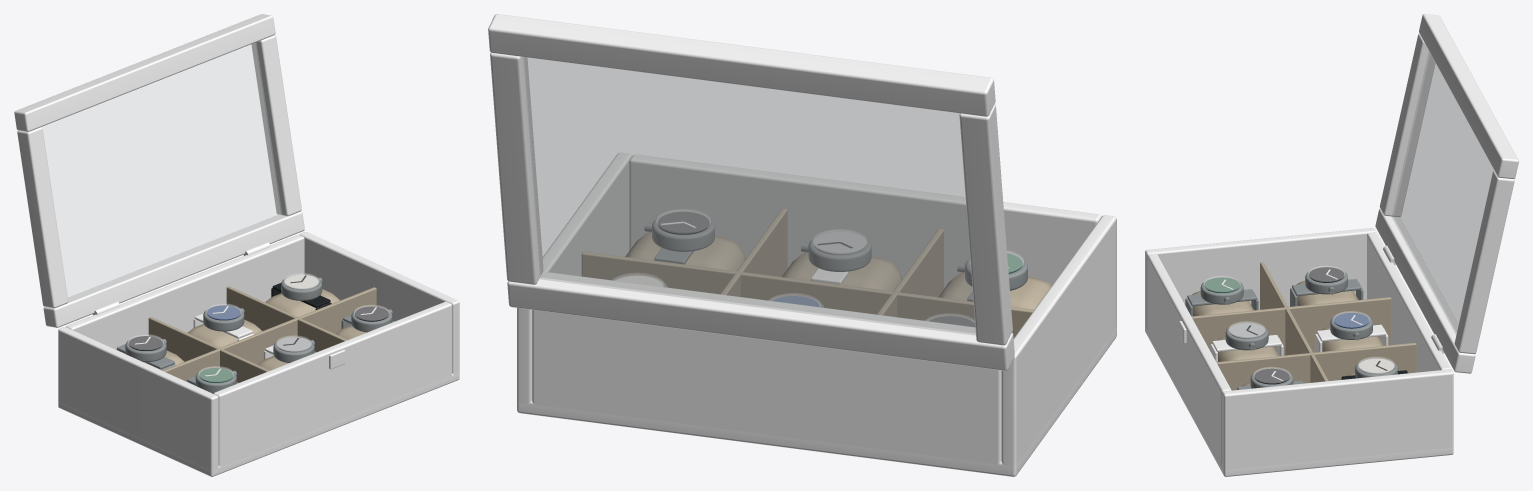
Rendered from watches-99b73f5d.glb.
3 views of the same model, side by side, from view 1: azimuth 30°, elevation 25°; view 2: azimuth 150°, elevation 25°; view 3: azimuth 270°, elevation 25° (orthographic). The views are drawn at different scales.
Visible parts, largest first — view 1: Inspect · Watch box · lid glass, Inspect · Watch box · walnut side, Inspect · Watch box · walnut end, Inspect · Watch box · walnut side.001, Inspect · Watch box · lid front rail, Inspect · Watch box · lid back rail, Inspect · Watch box · walnut end.001, Inspect · Watch box · lid side rail, Inspect · Watch box · lid side rail.001, Inspect · Watch box · compartment divider.002, Inspect · Watch box · walnut floor, Inspect · Watch box · compartment divider.001 (+12 smaller); view 2: Inspect · Watch box · lid glass, Inspect · Watch box · walnut side.001, Inspect · Watch box · walnut side, Inspect · Watch box · lid front rail, Inspect · Watch box · lid back rail, Inspect · Watch box · walnut end, Inspect · Watch box · compartment divider.002, Inspect · Watch box · lid side rail, Inspect · Watch box · lid side rail.001, Inspect · Watch box · walnut end.001, Inspect · Watch box · walnut floor, Inspect · Watch box · compartment divider.001 (+10 smaller); view 3: Inspect · Watch box · walnut end.001, Inspect · Watch box · lid glass, Inspect · Watch box · walnut end, Inspect · Watch box · walnut side, Inspect · Watch box · lid front rail, Inspect · Watch box · compartment divider, Inspect · Watch box · lid back rail, Inspect · Watch box · lid side rail.001, Inspect · Watch box · walnut side.001, Inspect · Watch box · lid side rail, Inspect · Watch box · compartment divider.001, Inspect · Watch box · walnut floor (+21 smaller).
Part boxes in pixels (bbox=[...]): Inspect · Watch box · lid glass: bbox=[41, 43, 282, 299]; Inspect · Watch box · walnut side: bbox=[213, 301, 451, 470]; Inspect · Watch box · walnut end: bbox=[58, 327, 218, 476]; Inspect · Watch box · walnut side.001: bbox=[66, 235, 304, 349]; Inspect · Watch box · lid front rail: bbox=[14, 14, 275, 131]; Inspect · Watch box · lid back rail: bbox=[43, 211, 304, 327]; Inspect · Watch box · walnut end.001: bbox=[299, 232, 459, 381]; Inspect · Watch box · lid side rail: bbox=[17, 127, 68, 308]; Inspect · Watch box · lid side rail.001: bbox=[251, 35, 301, 216]; Inspect · Watch box · compartment divider.002: bbox=[162, 287, 376, 381]; Inspect · Watch box · walnut floor: bbox=[58, 373, 459, 476]; Inspect · Watch box · compartment divider.001: bbox=[226, 286, 347, 352]; Inspect · Watch box · lid glass: bbox=[523, 57, 975, 335]; Inspect · Watch box · walnut side.001: bbox=[532, 310, 1001, 474]; Inspect · Watch box · walnut side: bbox=[629, 154, 1101, 288]; Inspect · Watch box · lid front rail: bbox=[488, 14, 995, 116]; Inspect · Watch box · lid back rail: bbox=[507, 271, 1014, 370]; Inspect · Watch box · walnut end: bbox=[1001, 215, 1116, 476]; Inspect · Watch box · compartment divider.002: bbox=[581, 251, 1034, 337]; Inspect · Watch box · lid side rail: bbox=[959, 104, 1012, 345]; Inspect · Watch box · lid side rail.001: bbox=[490, 52, 543, 284]; Inspect · Watch box · walnut end.001: bbox=[517, 152, 631, 413]; Inspect · Watch box · walnut floor: bbox=[517, 327, 1116, 476]; Inspect · Watch box · compartment divider.001: bbox=[721, 208, 787, 296]; Inspect · Watch box · walnut end.001: bbox=[1222, 369, 1453, 476]; Inspect · Watch box · lid glass: bbox=[1391, 52, 1493, 333]; Inspect · Watch box · walnut end: bbox=[1145, 228, 1376, 327]; Inspect · Watch box · walnut side: bbox=[1147, 253, 1231, 464]; Inspect · Watch box · lid front rail: bbox=[1419, 14, 1518, 179]; Inspect · Watch box · compartment divider: bbox=[1191, 297, 1391, 355]; Inspect · Watch box · lid back rail: bbox=[1375, 208, 1475, 373]; Inspect · Watch box · lid side rail.001: bbox=[1454, 170, 1514, 354]; Inspect · Watch box · walnut side.001: bbox=[1367, 232, 1451, 372]; Inspect · Watch box · lid side rail: bbox=[1379, 33, 1435, 217]; Inspect · Watch box · compartment divider.001: bbox=[1216, 342, 1416, 390]; Inspect · Watch box · walnut floor: bbox=[1145, 325, 1453, 476].
Size of the model in its own units: 0.7684 by 0.5995 by 0.6971.
